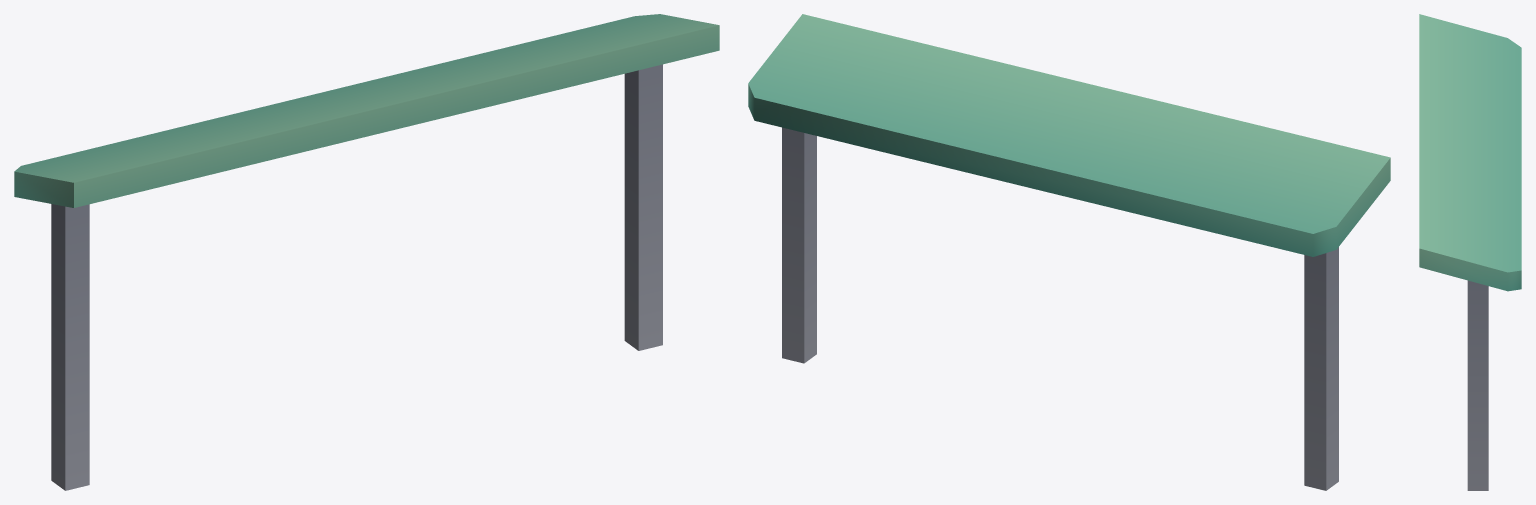
The model's file is detail-awning-wide.glb.
3 renders of one model, left to right at view 1: azimuth 30°, elevation 25°; view 2: azimuth 150°, elevation 25°; view 3: azimuth 270°, elevation 25°, orthographic. The views are drawn at different scales.
Visible parts, largest first — view 1: detail-awning-wide; view 2: detail-awning-wide; view 3: detail-awning-wide.
Part boxes in pixels (x1,y1,x2,y2): detail-awning-wide: (14, 14, 719, 490); detail-awning-wide: (748, 14, 1390, 490); detail-awning-wide: (1419, 14, 1521, 490).
Size of the model in its own units: 0.8 by 0.4 by 0.1479.
